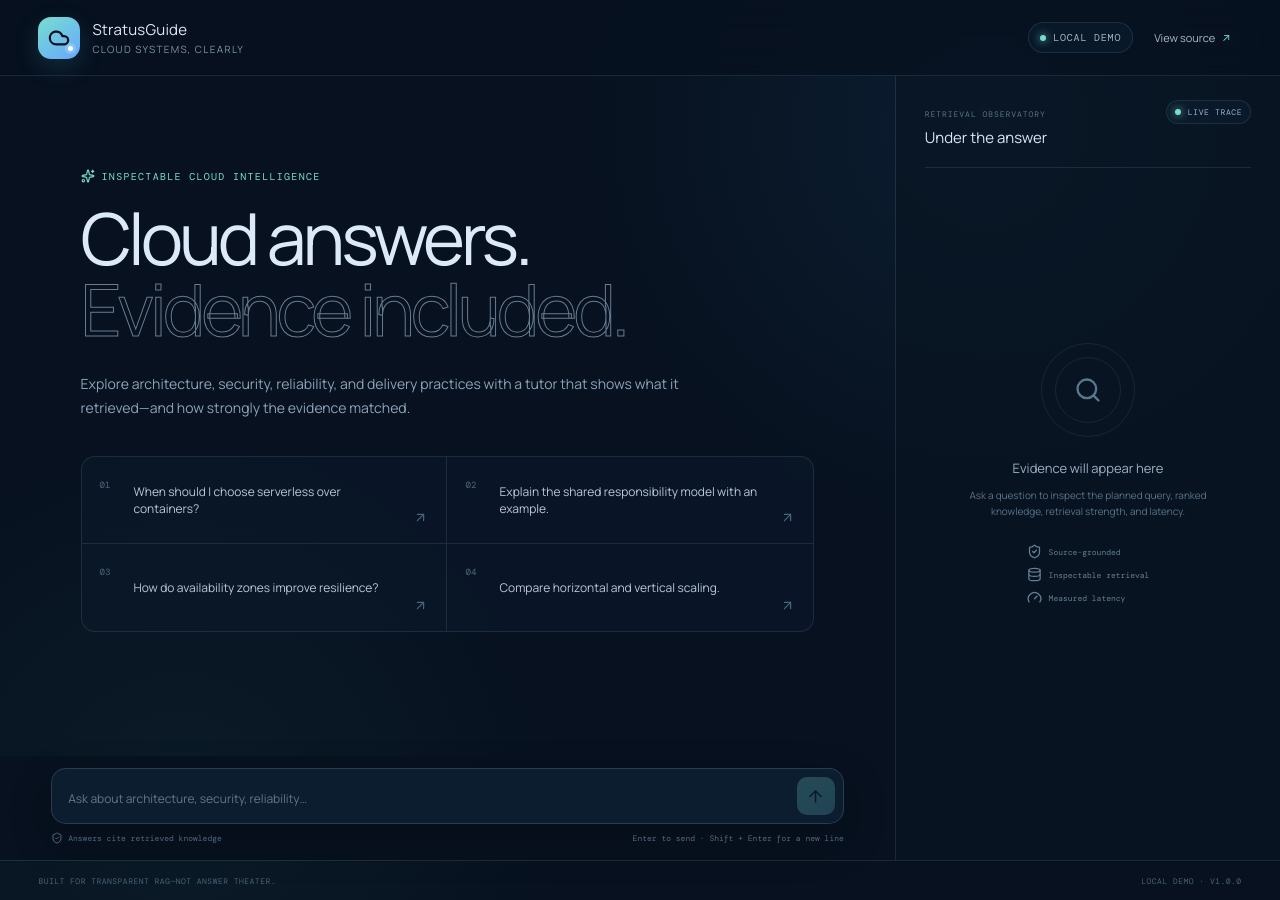
StratusGuide › aborts an in-flight request on reset and accepts a new question
Click the button "03 How do availability zones improve resilience?" at (264,587), box [82,544,447,631]
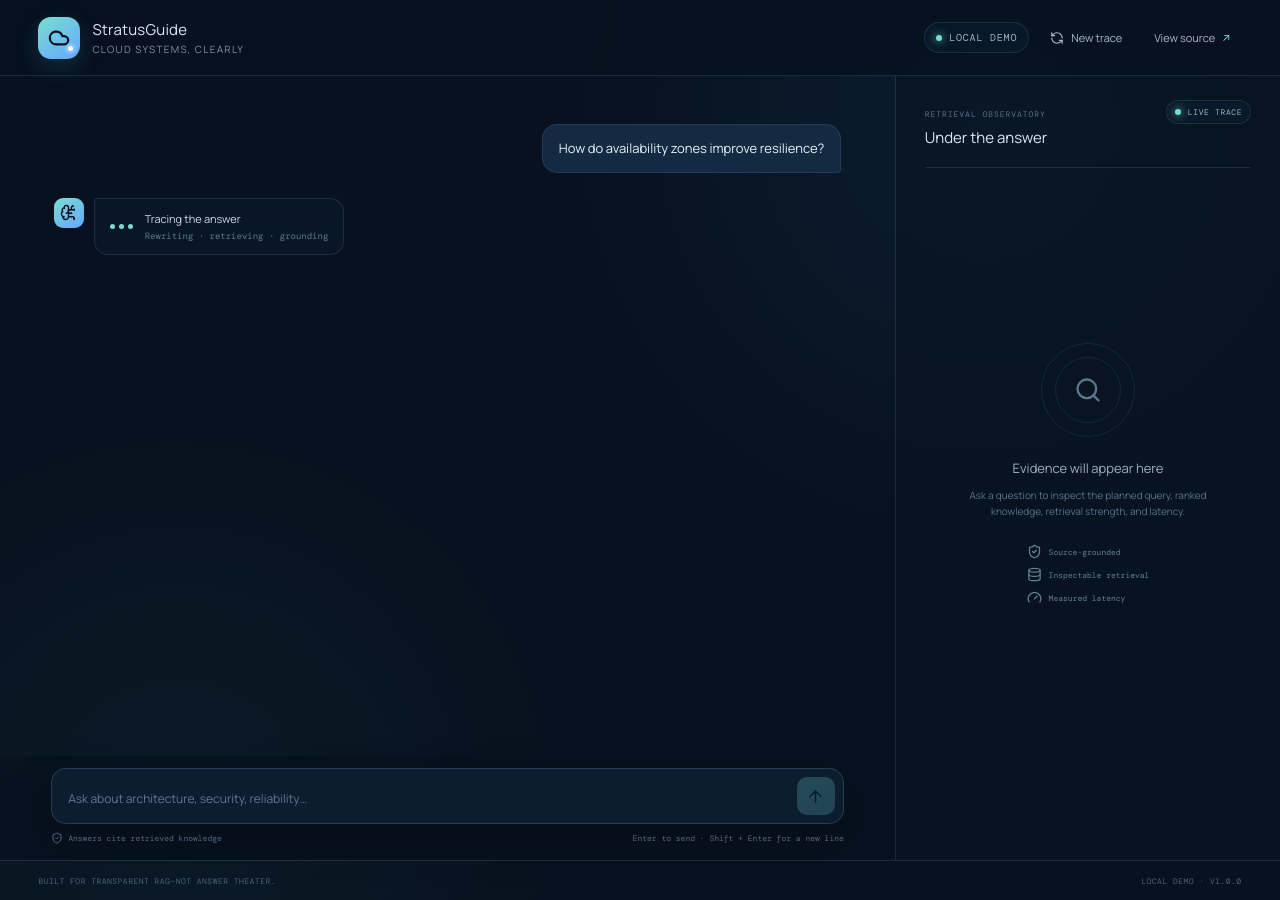
Expected: the text box named "cloud computing question" is disabled, [68,783,787,815]
Expected: the button named "send question" is disabled, [797,777,835,815]
Click the button "New trace" at (1086,38), box [1039,21,1133,54]
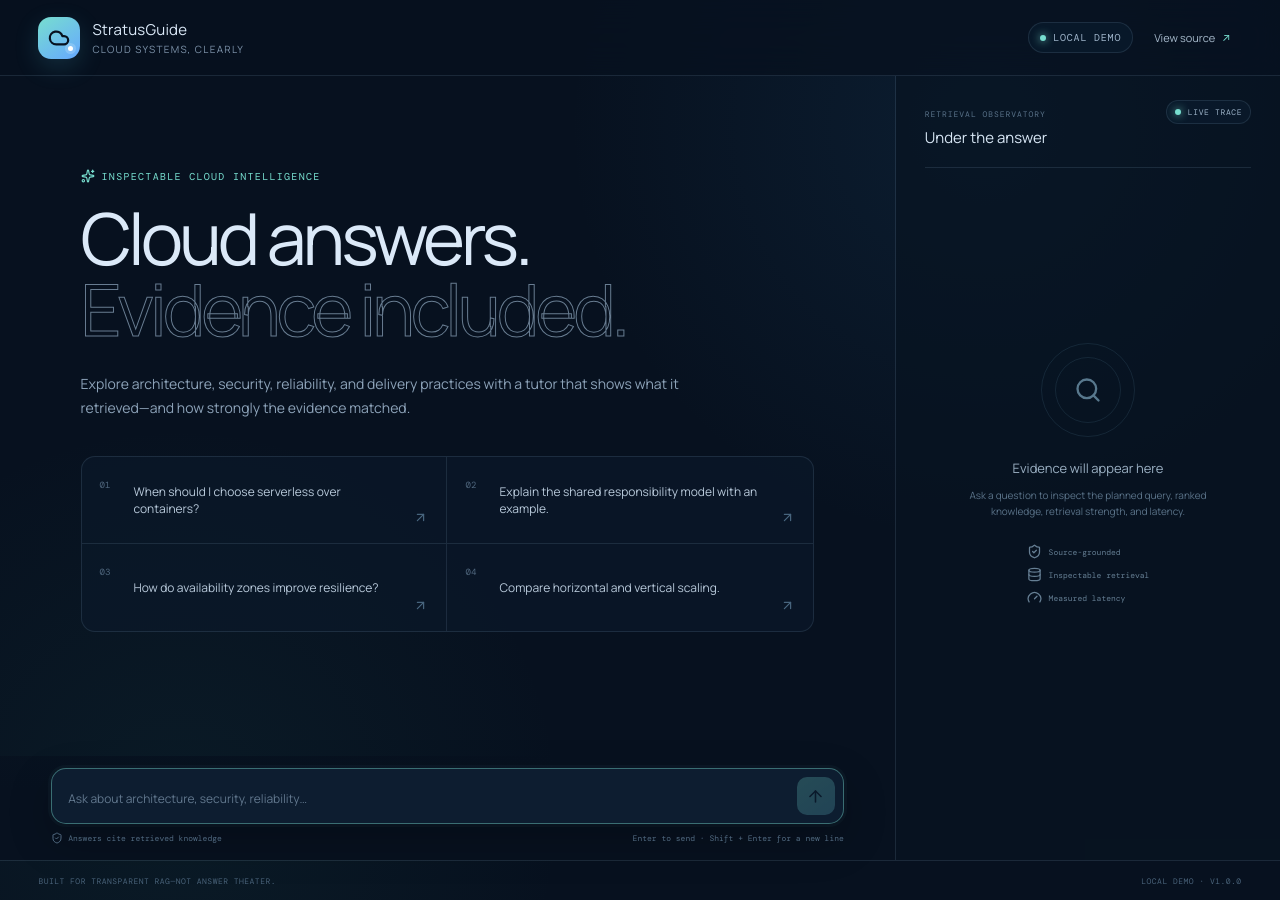
Click the button "04 Compare horizontal and vertical scaling." at (630,587), box [448,544,814,631]
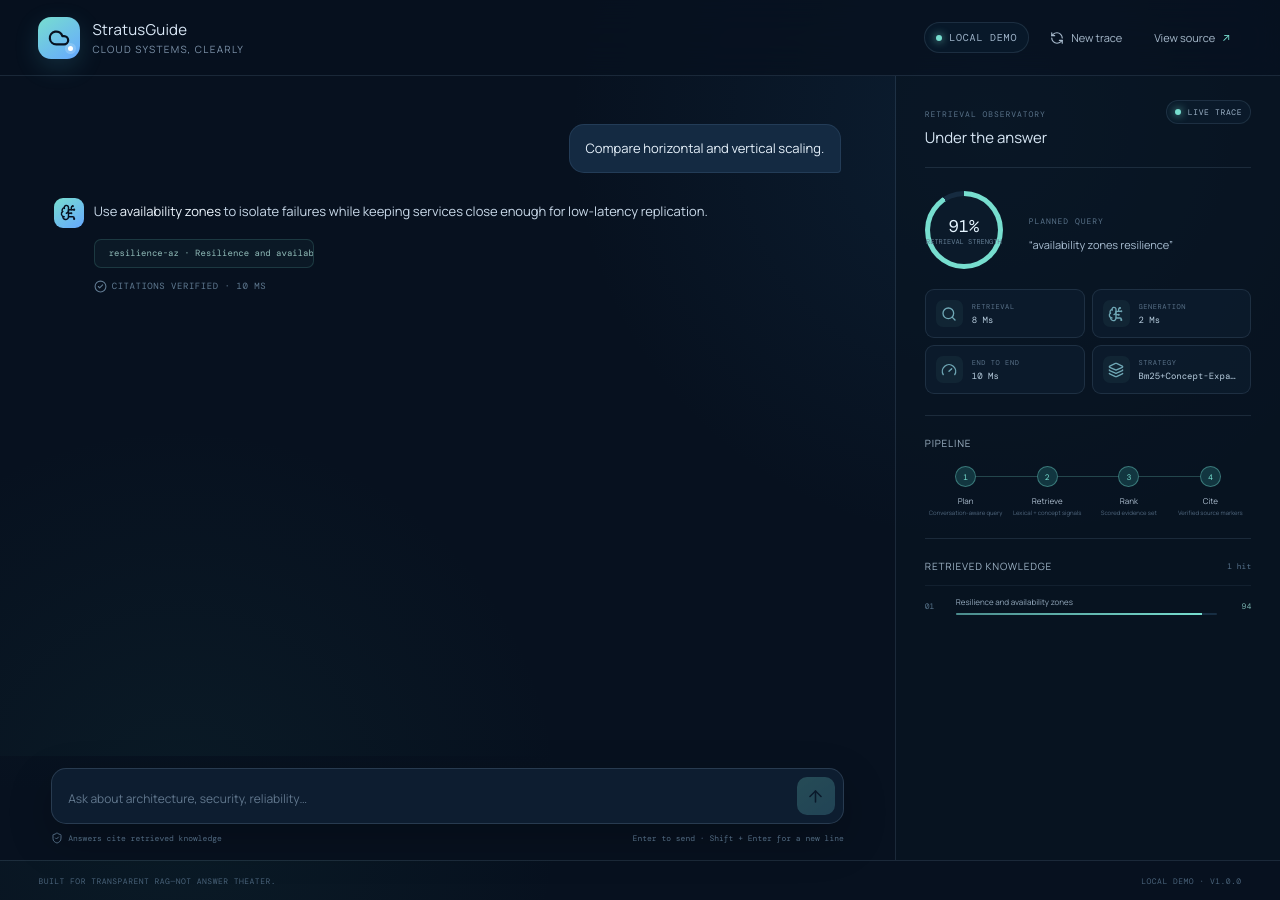
Now the element with test id "user-message" shows "horizontal and vertical scaling", box [586,139,824,157]
Now the number of elements with test id "user-message" is 1, box [569,124,841,173]
Now the number of elements with test id "assistant-message" is 1, box [54,198,708,293]
